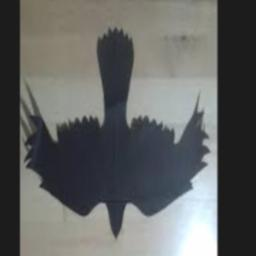Crow: (25, 28, 210, 240)
